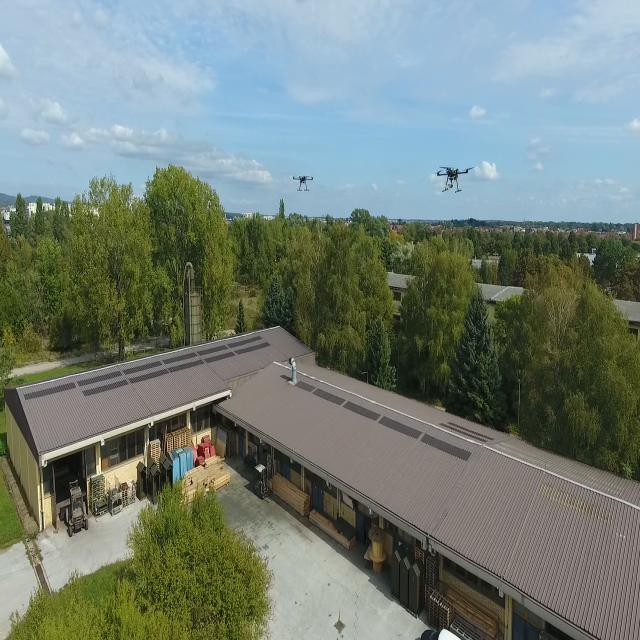UAV: (426, 160, 479, 199), (281, 170, 321, 195)
